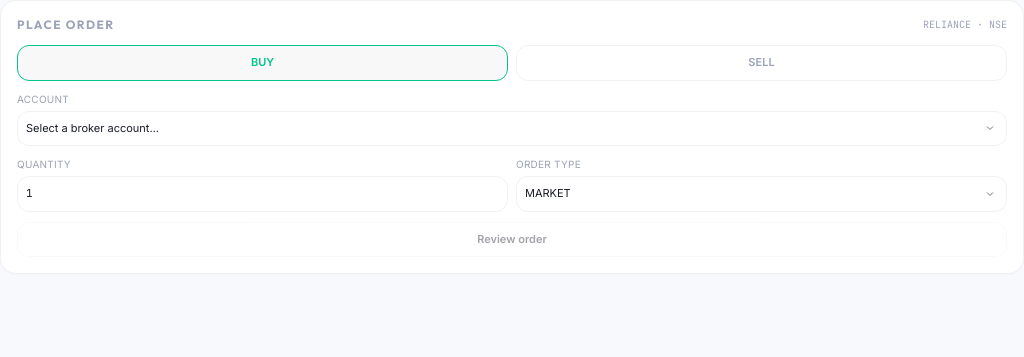
Scenario: every order is explicit › requires a price on a limit order
This screenshot has width=1024, height=357.
Select "Upstox · ABC123" in the dropdown with test id "order-broker" at (512, 128), box [17, 111, 1007, 146]
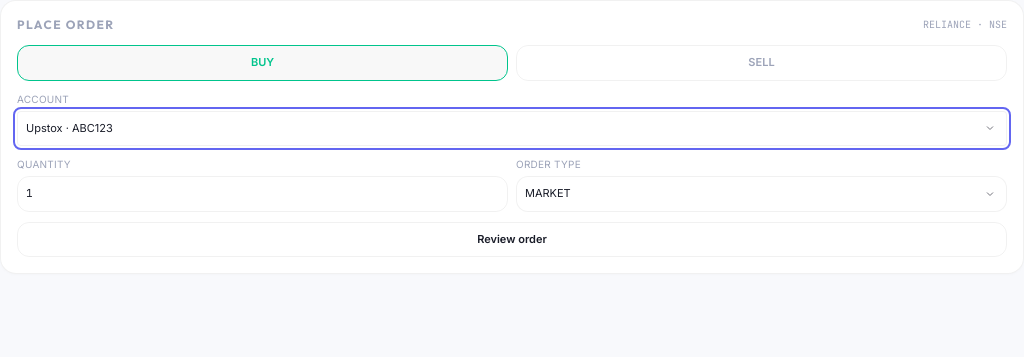
Replace the text in the number field with test id "order-quantity" with "10" at (262, 194), box [17, 176, 508, 212]
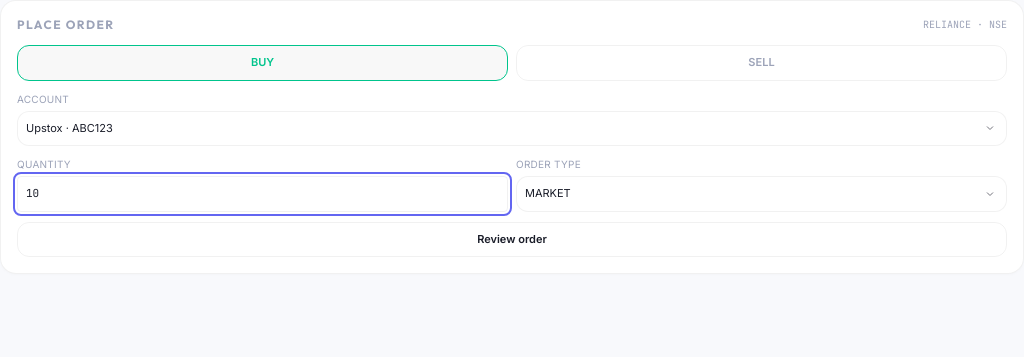
Select "LIMIT" in the dropdown with test id "order-type" at (762, 194), box [516, 176, 1007, 212]
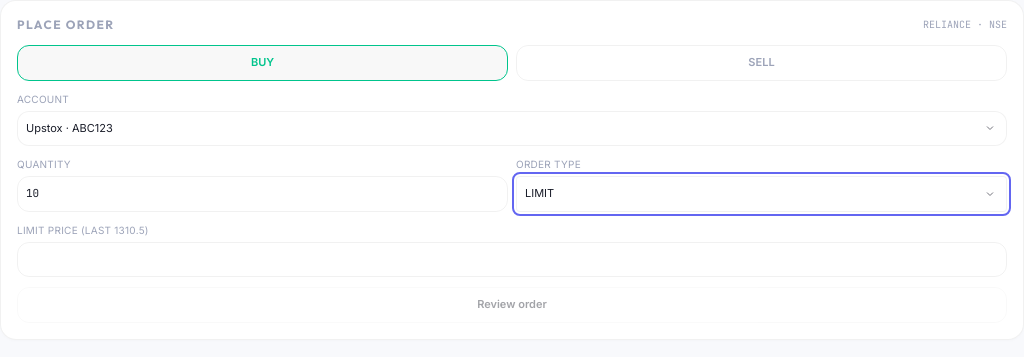
Result: the button with test id "order-review" is disabled at [17, 287, 1007, 323]
